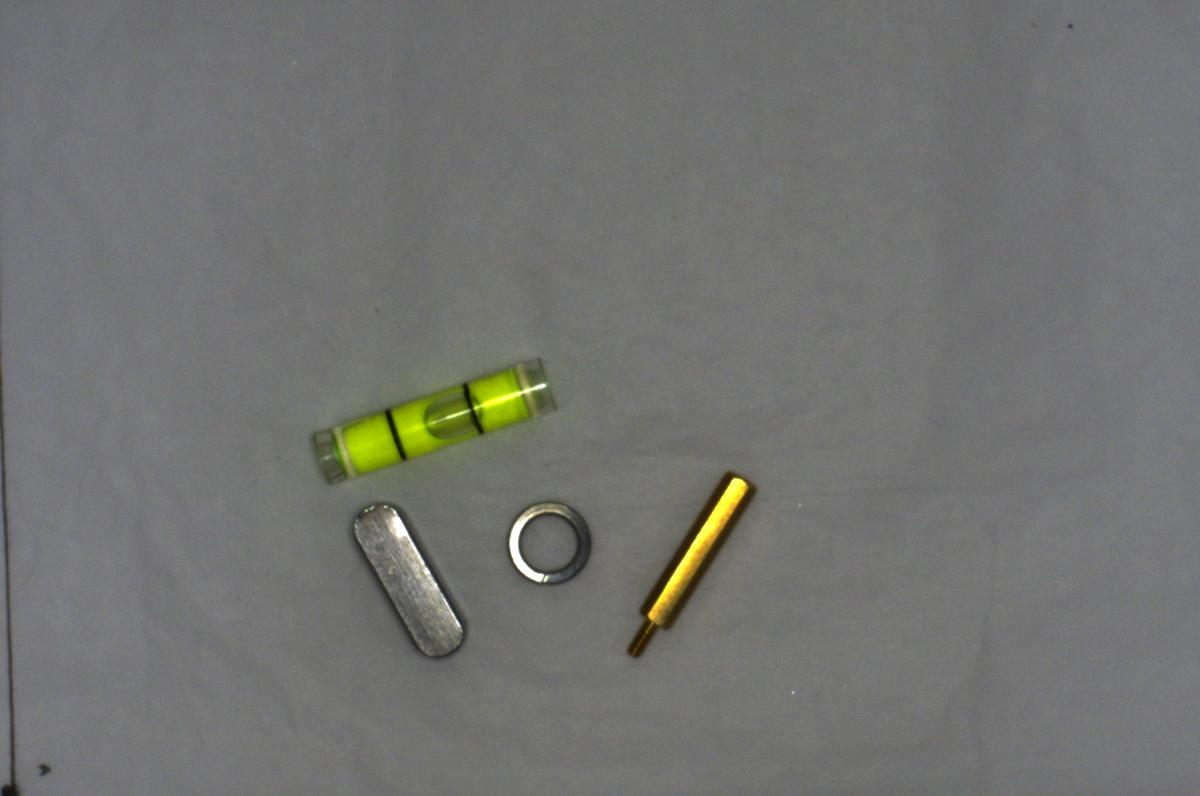Hexagon pillar: (601, 461, 764, 655)
Horizontal bubble: (298, 340, 568, 486)
Keybar: (339, 492, 484, 672)
Spring washer: (492, 493, 607, 596)
